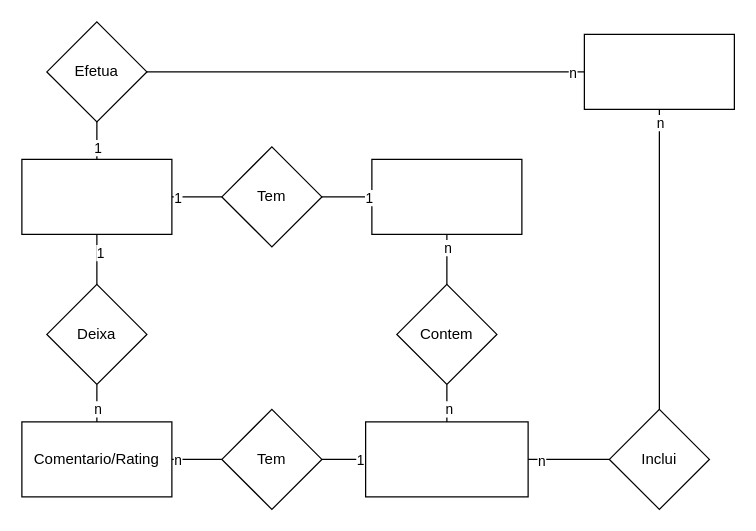
Some shapes in this 756 by 531 pixel diagram are drawn without their labels. The shapes that lost their labels are listed below. From the top down, each one's centre as x and y in pixels, then its label:
At (x=658, y=71): "Compra".
At (x=96, y=196): "Utilizador".
At (x=446, y=196): "Caixa".
At (x=446, y=459): "Produto".
